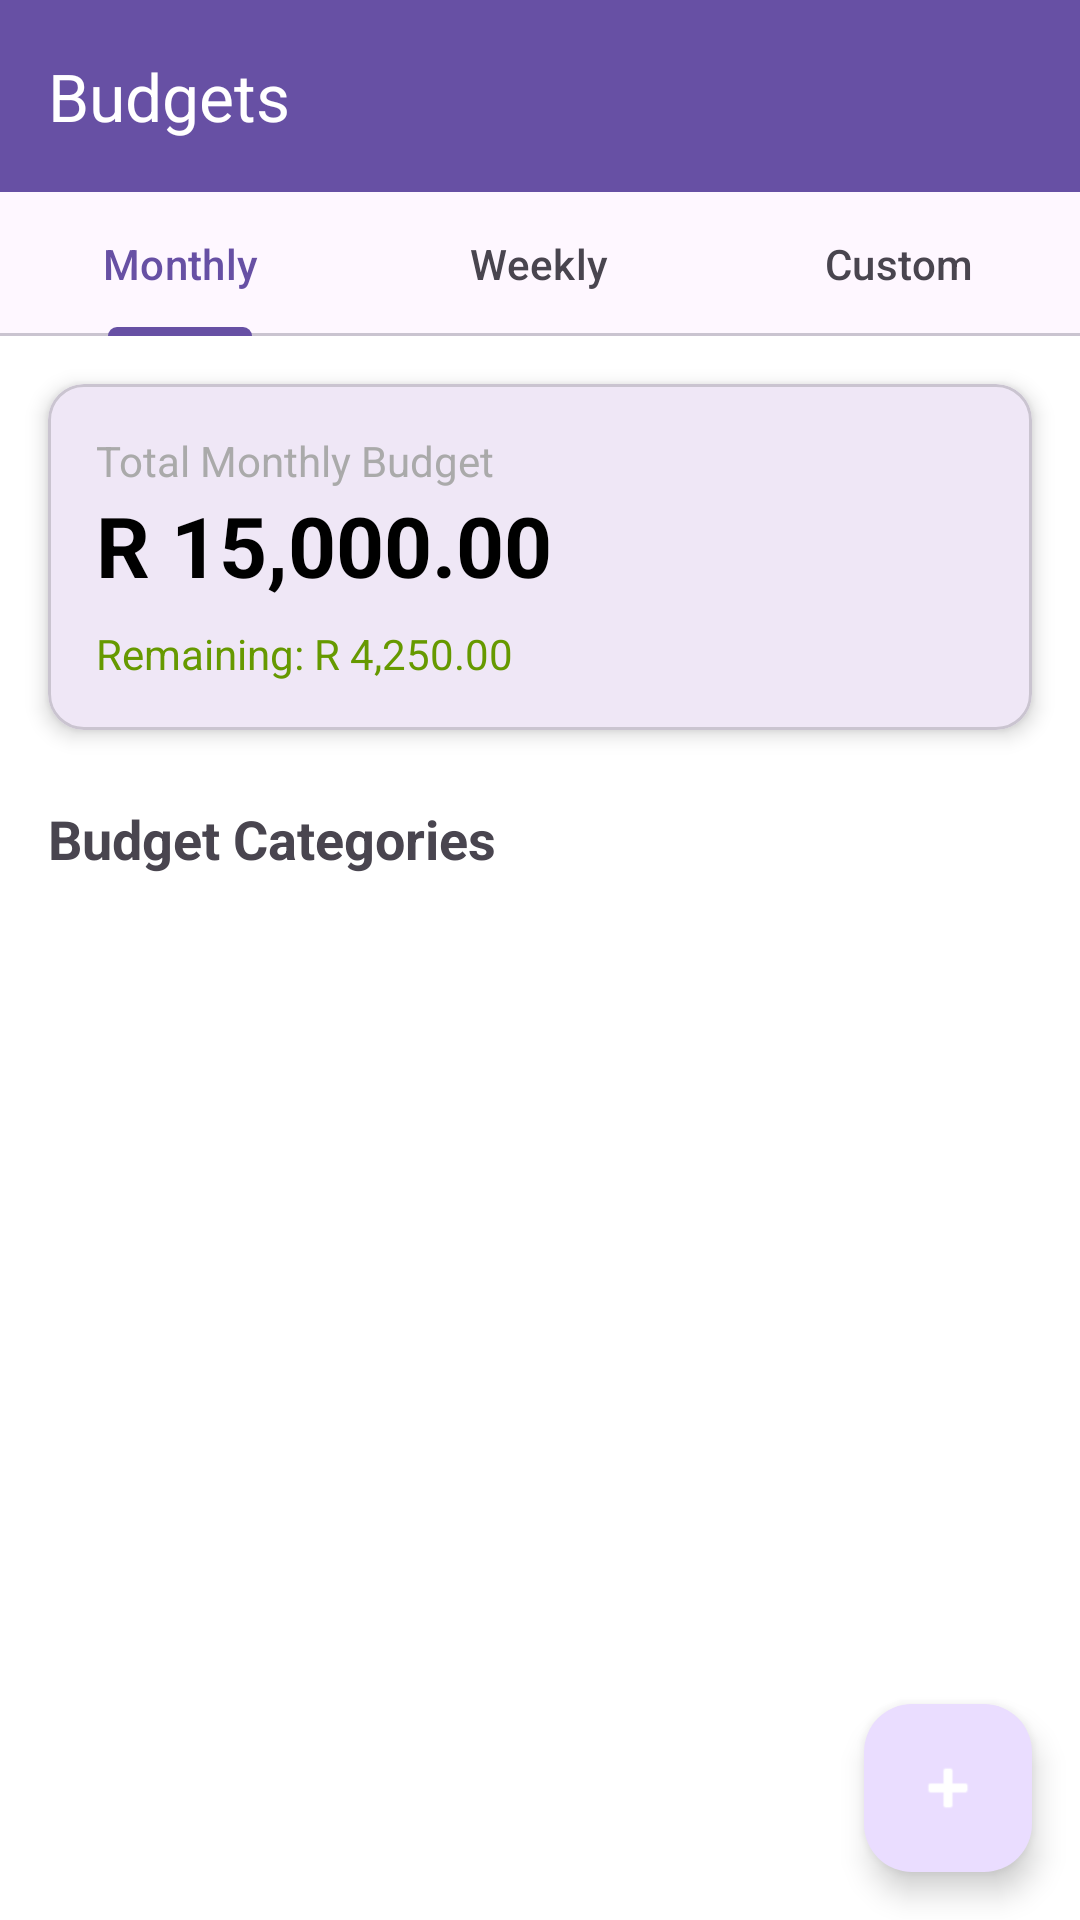

Where icons sit on this 1080×1920 app screen, as box=[x1, y1, x2, y2]:
Add Goal: box=[864, 1704, 1032, 1872]
